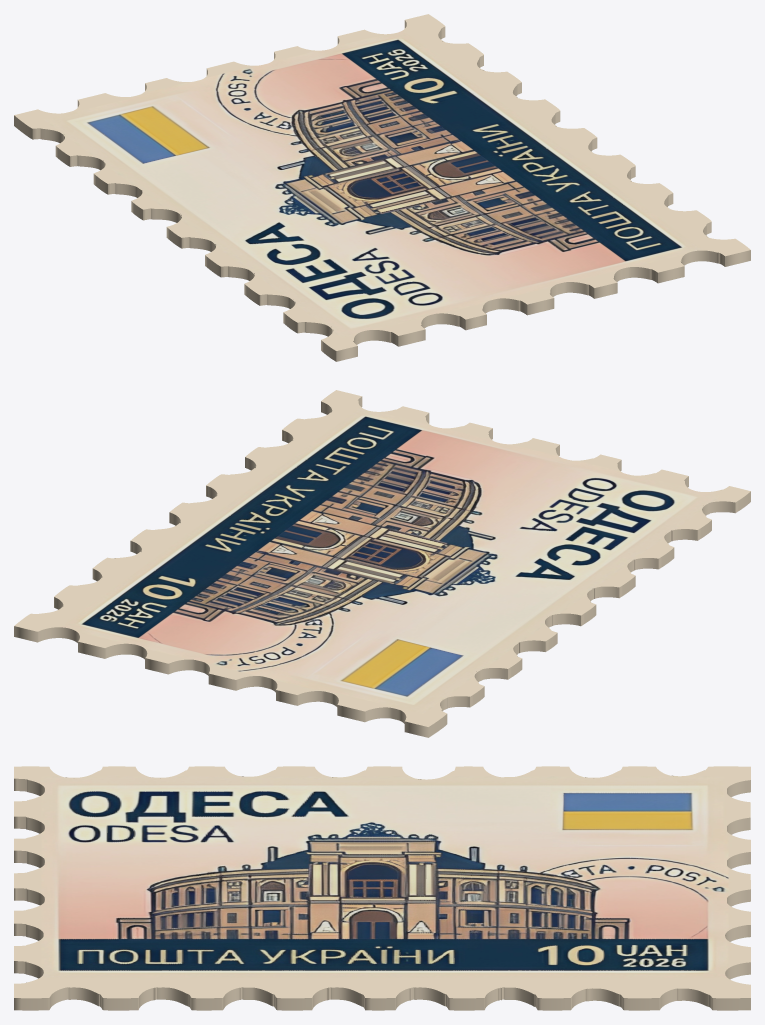
The model's file is Card_Odessa.glb.
3 views of the same model, one above another, from view 1: azimuth 30°, elevation 25°; view 2: azimuth 150°, elevation 25°; view 3: azimuth 270°, elevation 25° (orthographic). The views are drawn at different scales.
Visible parts, largest first — view 1: Curve; view 2: Curve; view 3: Curve.
Part boxes in pixels (x1,y1,x2,y2): Curve: (14,14,750,361); Curve: (14,390,750,737); Curve: (14,766,750,1010).
Size of the model in its own units: 124 by 3.07 by 167.
1 material, 1 textured.
